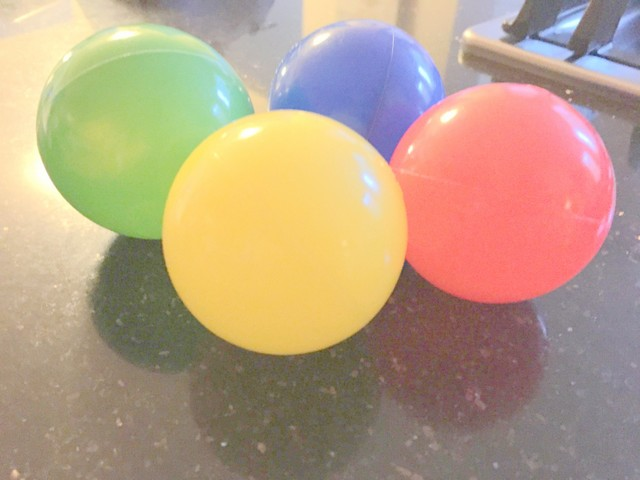ball: (267, 17, 446, 168)
